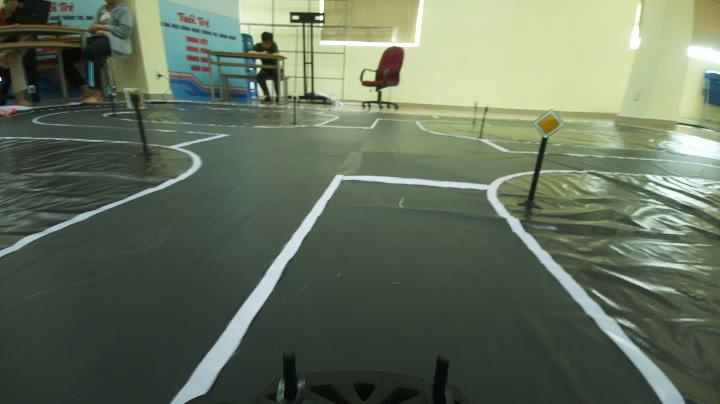priority: (530, 106, 568, 144)
